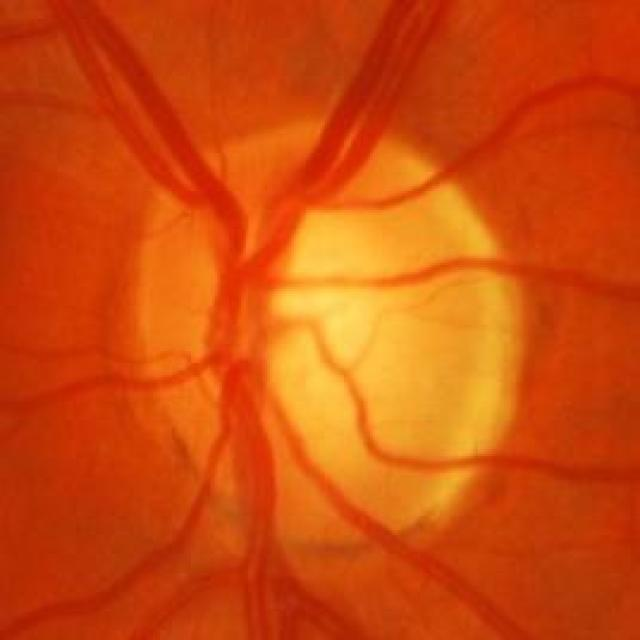OC: (224, 222, 406, 392)
OD: (126, 116, 517, 546)
